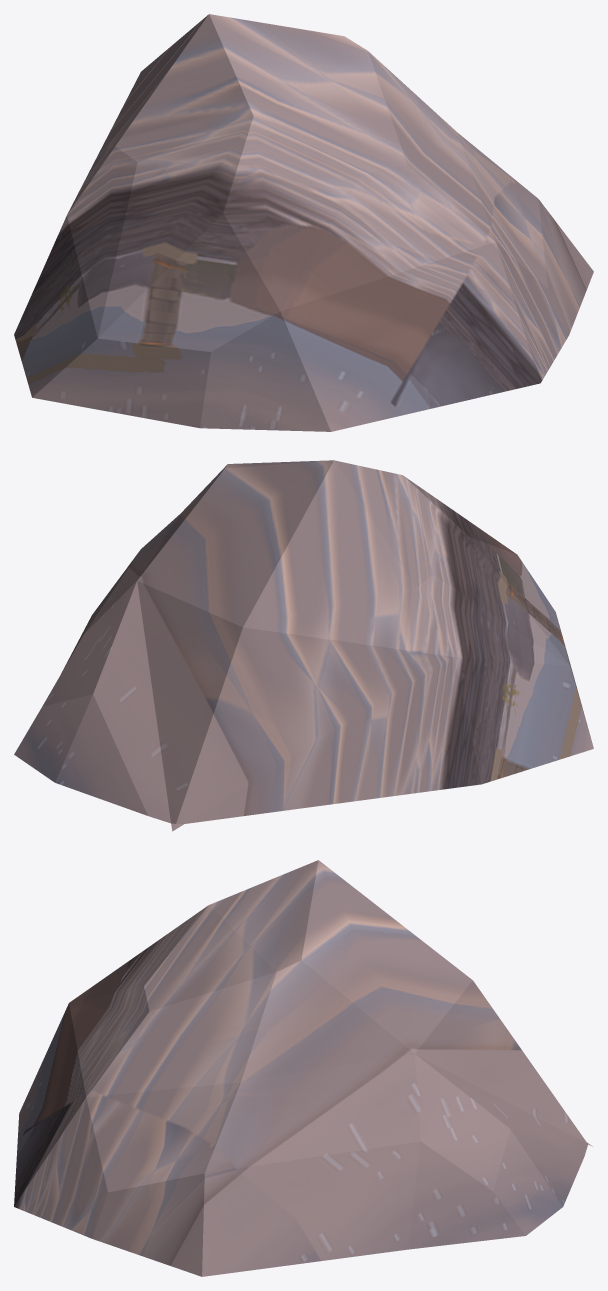
File: Mountain_3.fbx
3 renders of one model, top to bottom at view 1: azimuth 30°, elevation 25°; view 2: azimuth 150°, elevation 25°; view 3: azimuth 270°, elevation 25°, orthographic. The views are drawn at different scales.
Parts seen in each view (by area): view 1: Cube.079; view 2: Cube.079; view 3: Cube.079.
Boxes of the visible parts, x1,y1,x2,y2 form: Cube.079: [14, 14, 593, 431]; Cube.079: [14, 460, 593, 831]; Cube.079: [14, 860, 592, 1276].
Size of the model in its own units: 7529 by 3873 by 7383.
